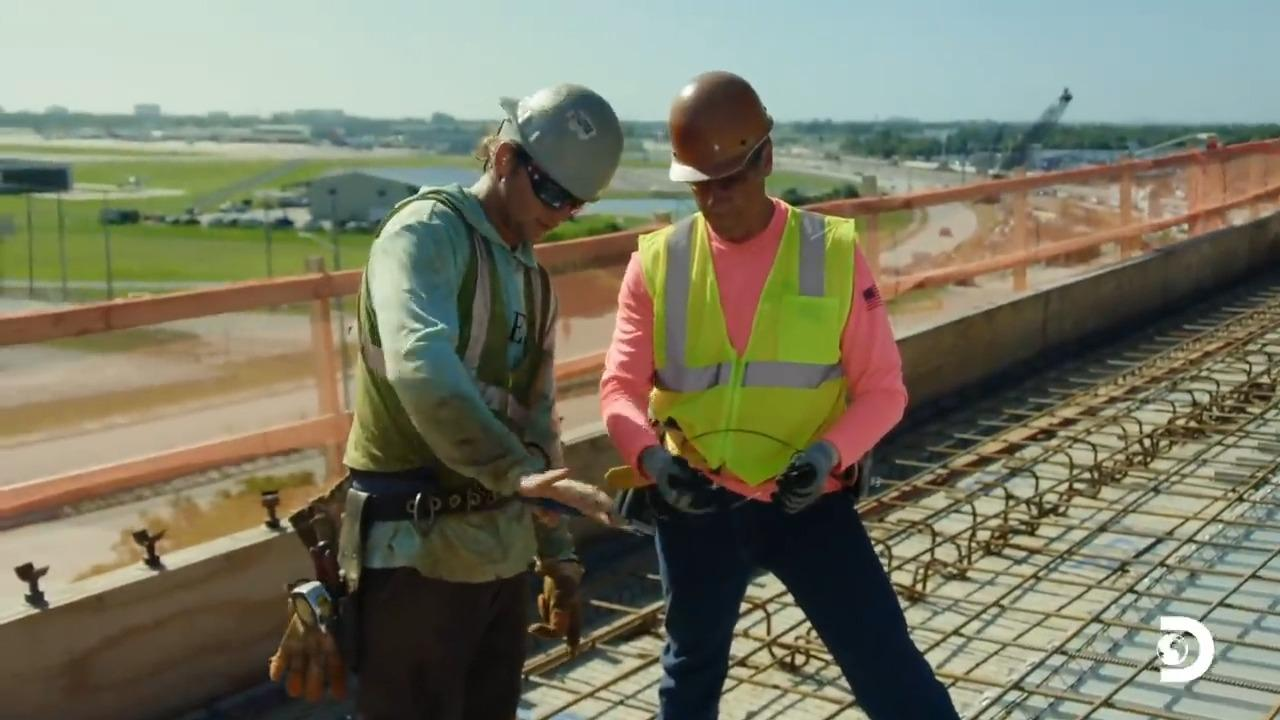Gloves: (767, 437, 843, 507), (657, 452, 723, 524), (540, 557, 584, 640)
Helmet: (496, 82, 624, 203), (667, 69, 773, 183)
Person: (598, 69, 961, 719), (279, 70, 634, 708)
Safety Vest: (656, 243, 851, 454), (377, 232, 528, 491)
bare-arms: (514, 460, 604, 528)
